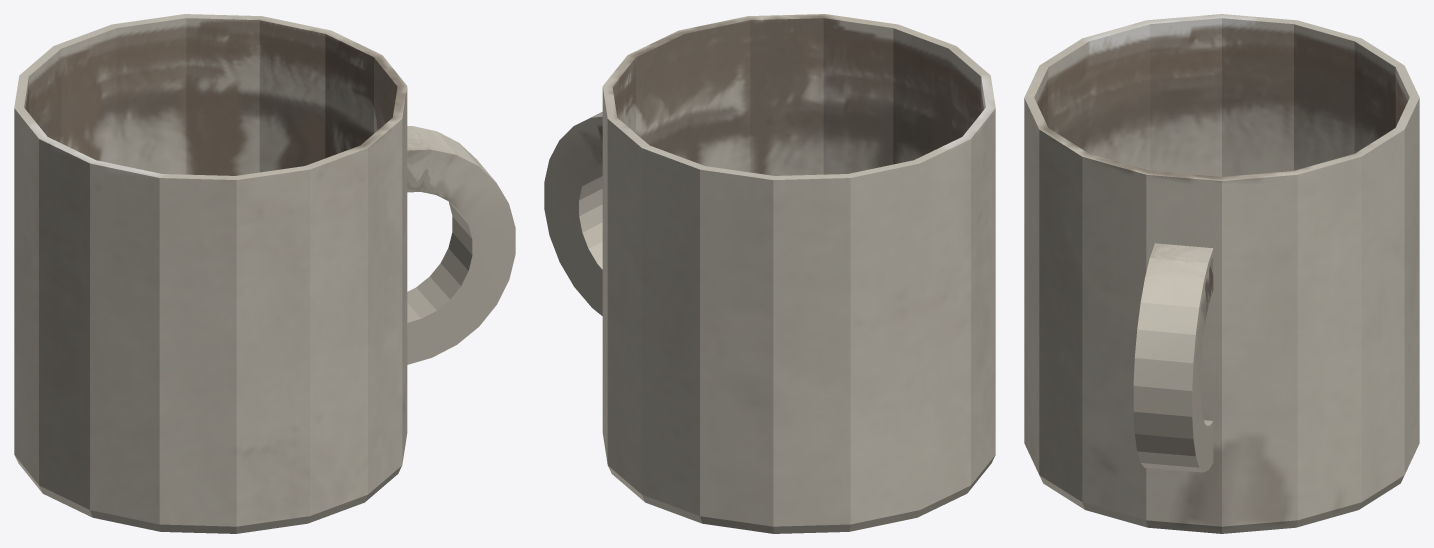
The model's file is MKU_coffee_mug_fin.fbx.
The picture shows the model from 3 angles, left to right: view 1: azimuth 30°, elevation 25°; view 2: azimuth 150°, elevation 25°; view 3: azimuth 270°, elevation 25°; orthographic projection.
Visible parts, largest first — view 1: Cylinder; view 2: Cylinder; view 3: Cylinder.
Boxes of the visible parts, x1,y1,x2,y2 form: Cylinder: (14,14,515,533); Cylinder: (544,14,995,533); Cylinder: (1024,14,1419,533).
Bounding box in the file's own units: 257 × 200 × 200.
